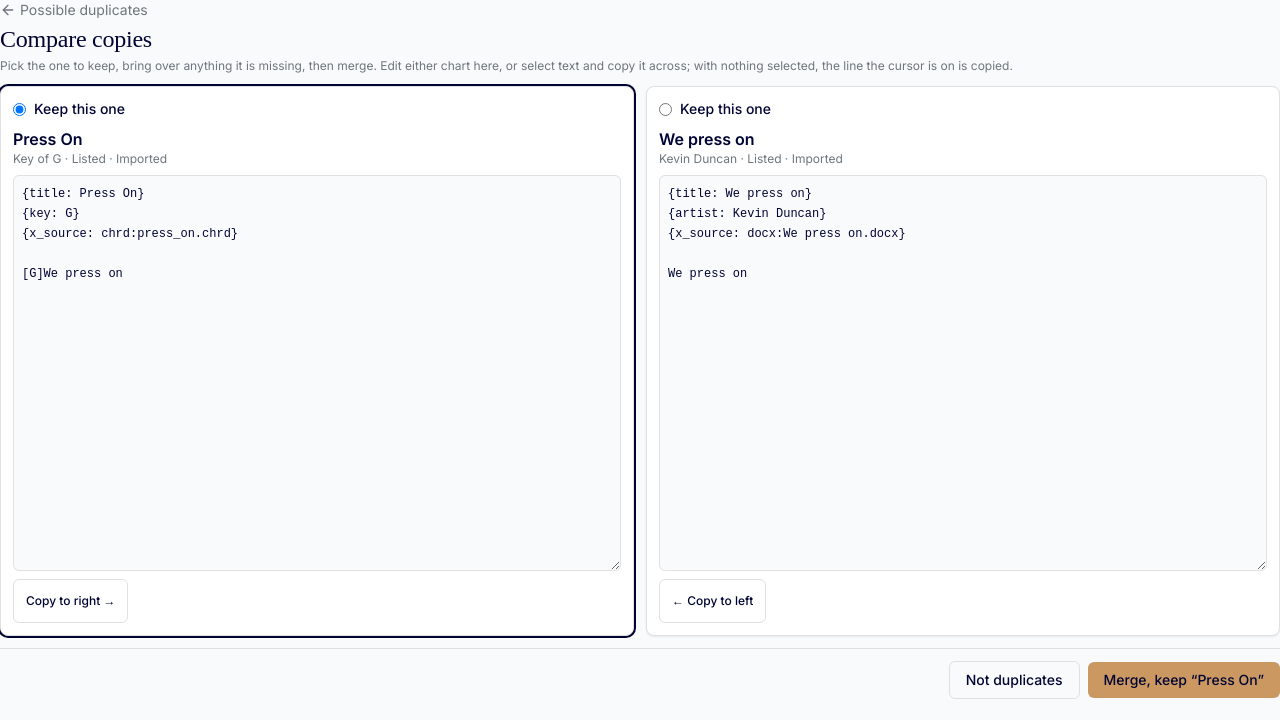
Test: CompareSongsPage › warns that changes to the copy being archived are not kept
Expected: the element named "Right copy" is shown, [646, 86, 1279, 636]
Step 1. Replace the text in the text box named "Chart text for We press on" with "changed" → [963, 373], box [659, 175, 1267, 571]
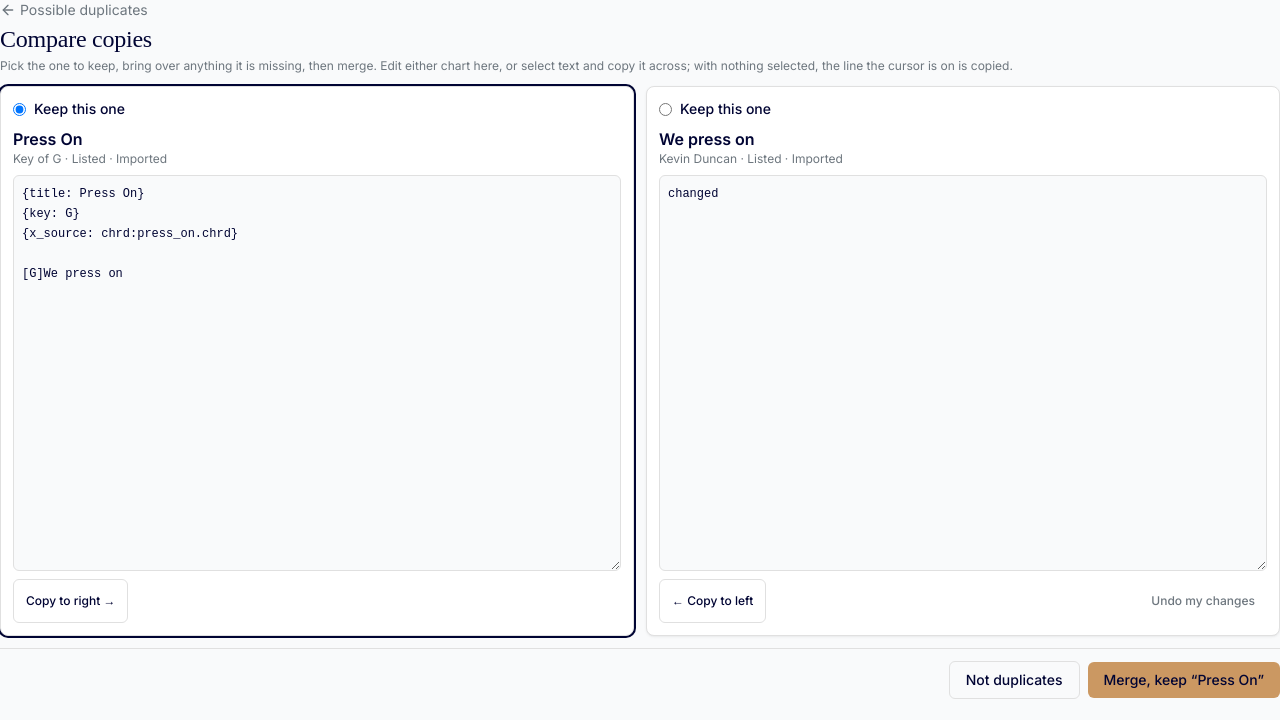
Step 2. Click the button "Merge, keep “Press On”" → [1184, 680], box [1088, 662, 1279, 698]
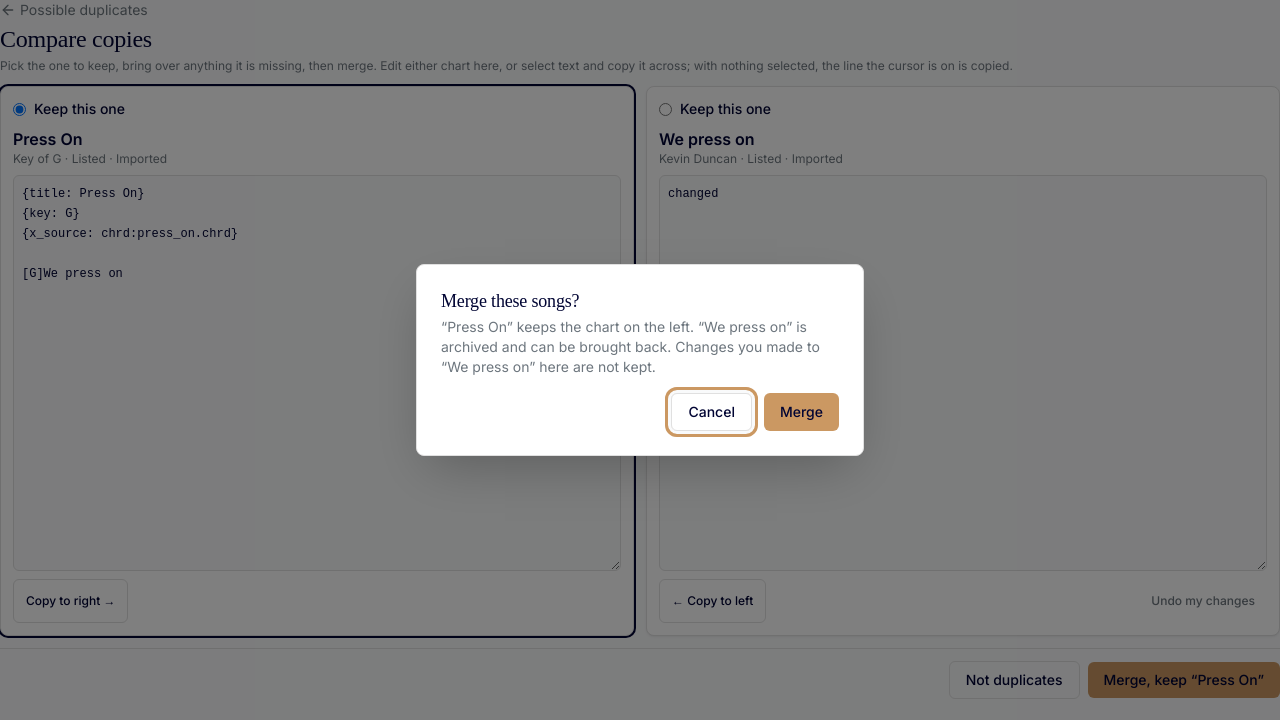
Expected: the dialog shows "Changes you made to “We press on” here are not kept.", [441, 318, 820, 375]
